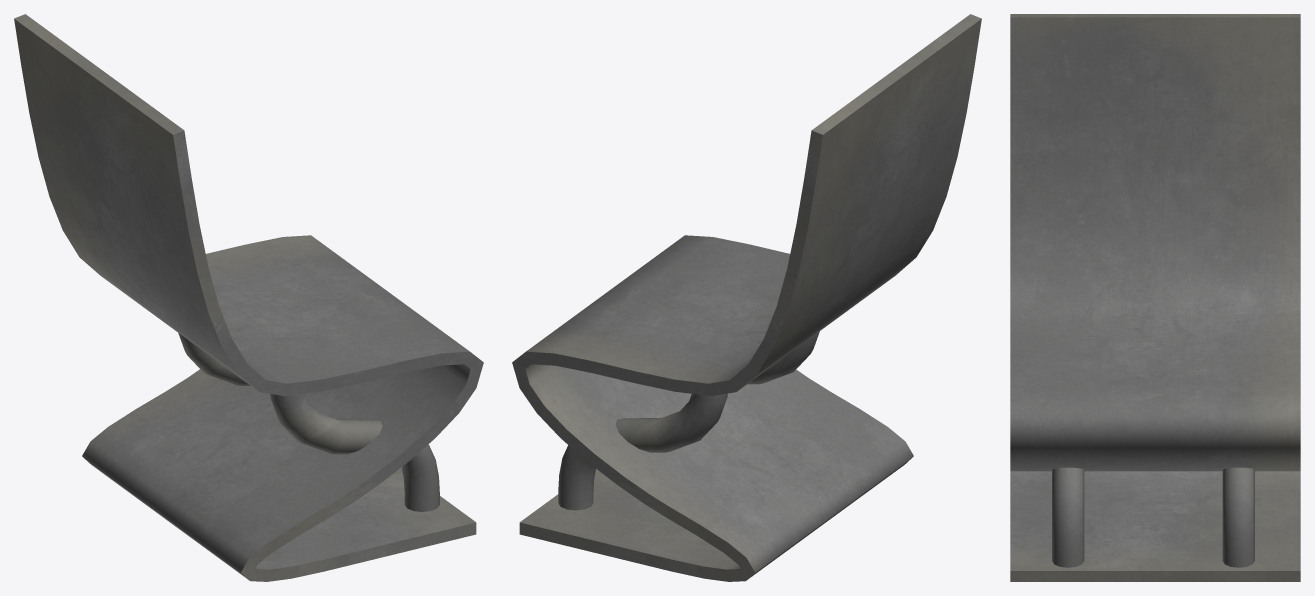
Rendered from chair.fbx.
3 renders of one model, left to right at view 1: azimuth 30°, elevation 25°; view 2: azimuth 150°, elevation 25°; view 3: azimuth 270°, elevation 25°, orthographic. The views are drawn at different scales.
Visible parts, largest first — view 1: Line001; view 2: Line001; view 3: Line001.
Part boxes in pixels (x1,y1,x2,y2): Line001: (14,14,483,581); Line001: (512,14,981,581); Line001: (1010,14,1300,581).
Size of the model in its own units: 903 by 1319 by 800.
1 material, 1 textured.
